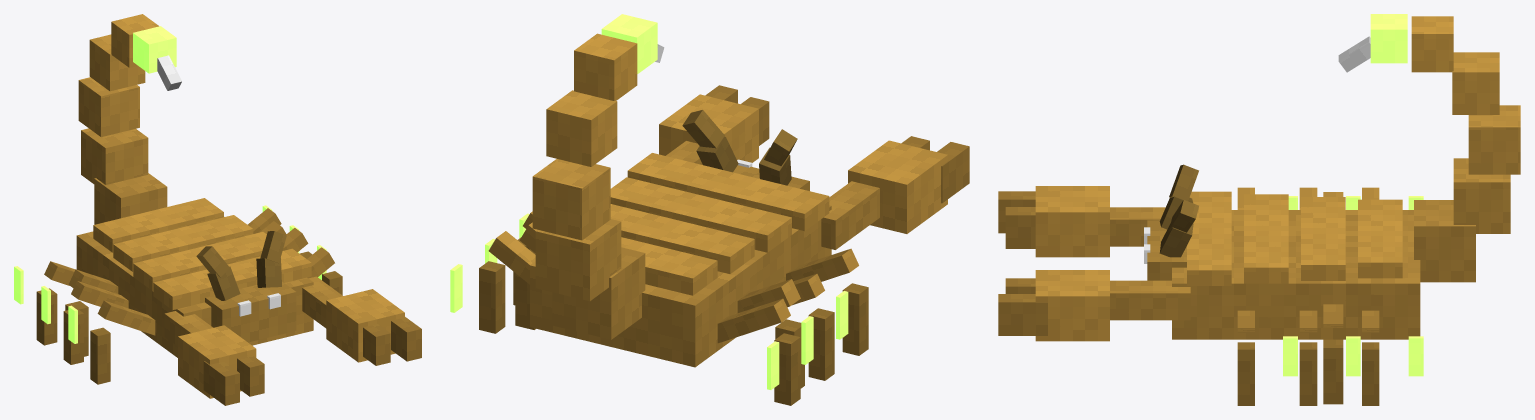
The model's file is scorpion_evo1.glb.
The picture shows the model from 3 angles, left to right: view 1: azimuth 30°, elevation 25°; view 2: azimuth 150°, elevation 25°; view 3: azimuth 270°, elevation 25°; orthographic projection. The views are drawn at different scales.
Parts seen in each view (by area): view 1: Torso, ArmL, Head, ArmR, LegR; view 2: Torso, ArmR, ArmL, Head, LegR, LegL; view 3: Torso, ArmL, ArmR, Head, LegL.
Part boxes in pixels (x1,y1,x2,y2): Torso: [14, 14, 342, 384]; ArmL: [302, 276, 421, 365]; Head: [196, 231, 296, 342]; ArmR: [164, 311, 264, 405]; LegR: [65, 269, 118, 356]; Torso: [450, 14, 868, 405]; ArmR: [821, 136, 969, 249]; ArmL: [659, 85, 769, 164]; Head: [682, 110, 809, 190]; LegR: [737, 279, 804, 388]; LegL: [515, 222, 537, 329]; Torso: [1172, 14, 1520, 405]; ArmL: [998, 270, 1190, 341]; ArmR: [998, 186, 1165, 257]; Head: [1144, 164, 1198, 280]; LegL: [1323, 304, 1343, 404].
Size of the model in its own units: 1.36 by 1.42 by 2.1.
14 materials, 14 textured.
